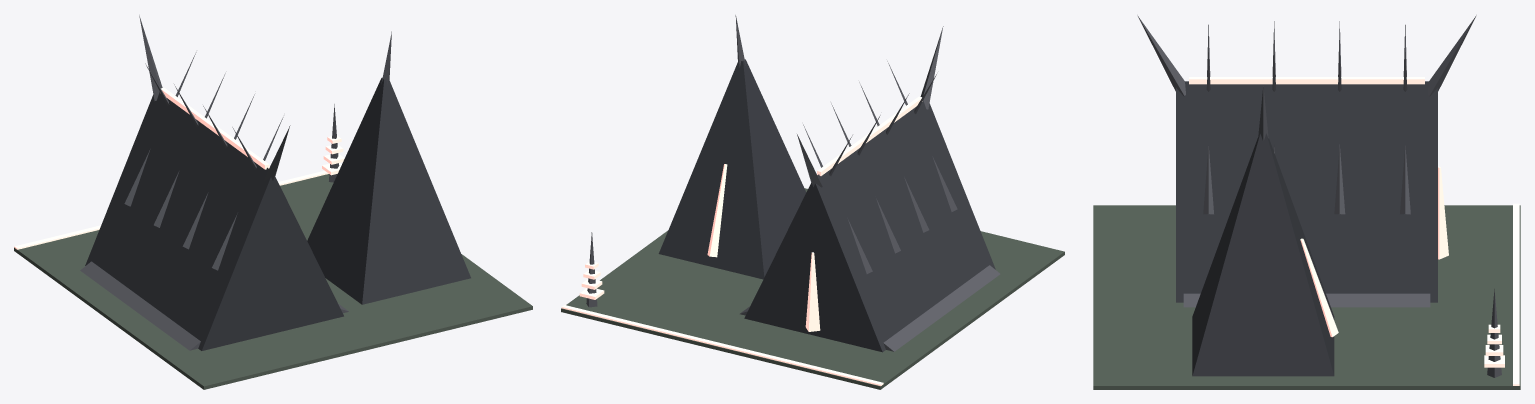
The model's file is zone_low_6_t4.glb.
The picture shows the model from 3 angles, left to right: view 1: azimuth 30°, elevation 25°; view 2: azimuth 150°, elevation 25°; view 3: azimuth 270°, elevation 25°; orthographic projection. The views are drawn at different scales.
Parts seen in each view (by area): view 1: zone_low_6_t4, detail; view 2: zone_low_6_t4, detail; view 3: zone_low_6_t4, detail.
Boxes of the visible parts, x1=… form: zone_low_6_t4: x1=14, y1=15, x2=532, y2=389; detail: x1=14, y1=104, x2=344, y2=249; zone_low_6_t4: x1=561, y1=15, x2=1064, y2=389; detail: x1=561, y1=232, x2=883, y2=385; zone_low_6_t4: x1=1093, y1=15, x2=1520, y2=389; detail: x1=1484, y1=203, x2=1519, y2=385.
Size of the model in its own units: 19.6 by 13.63 by 19.6.
